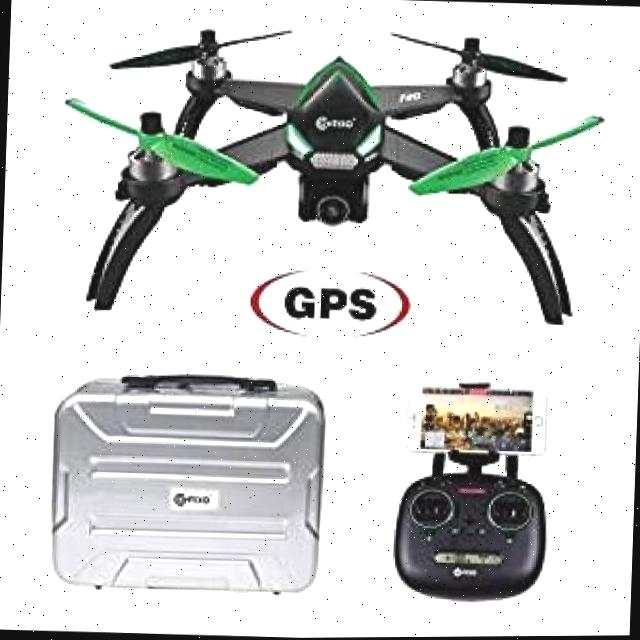drone: (49, 0, 618, 349)
